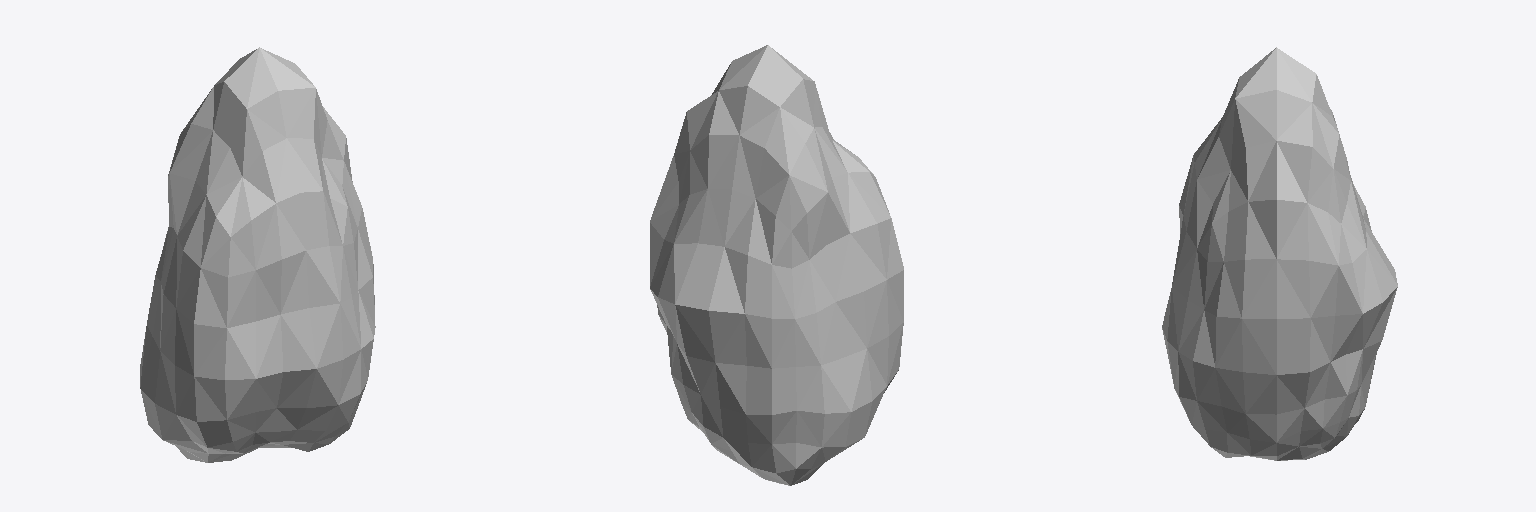
File: boulder.obj
3 views of the same model, side by side, from view 1: azimuth 30°, elevation 25°; view 2: azimuth 150°, elevation 25°; view 3: azimuth 270°, elevation 25° (orthographic).
Visible parts, largest first — view 1: Stone_F_3_LOD1; view 2: Stone_F_3_LOD1; view 3: Stone_F_3_LOD1.
Boxes of the visible parts, box(x1,y1,x2,y2) form: Stone_F_3_LOD1: box(140, 47, 375, 462); Stone_F_3_LOD1: box(650, 45, 903, 485); Stone_F_3_LOD1: box(1162, 47, 1397, 460).
Bounding box in the file's own units: 0.4186 × 0.8142 × 0.416.